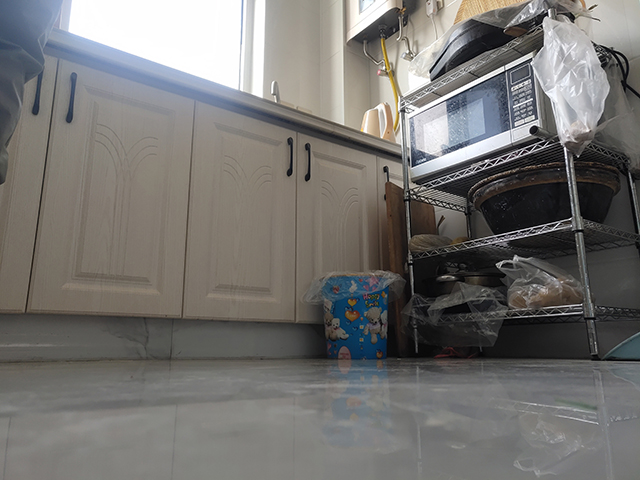cabinet: (20, 29, 323, 363)
trashcan: (317, 268, 392, 362)
